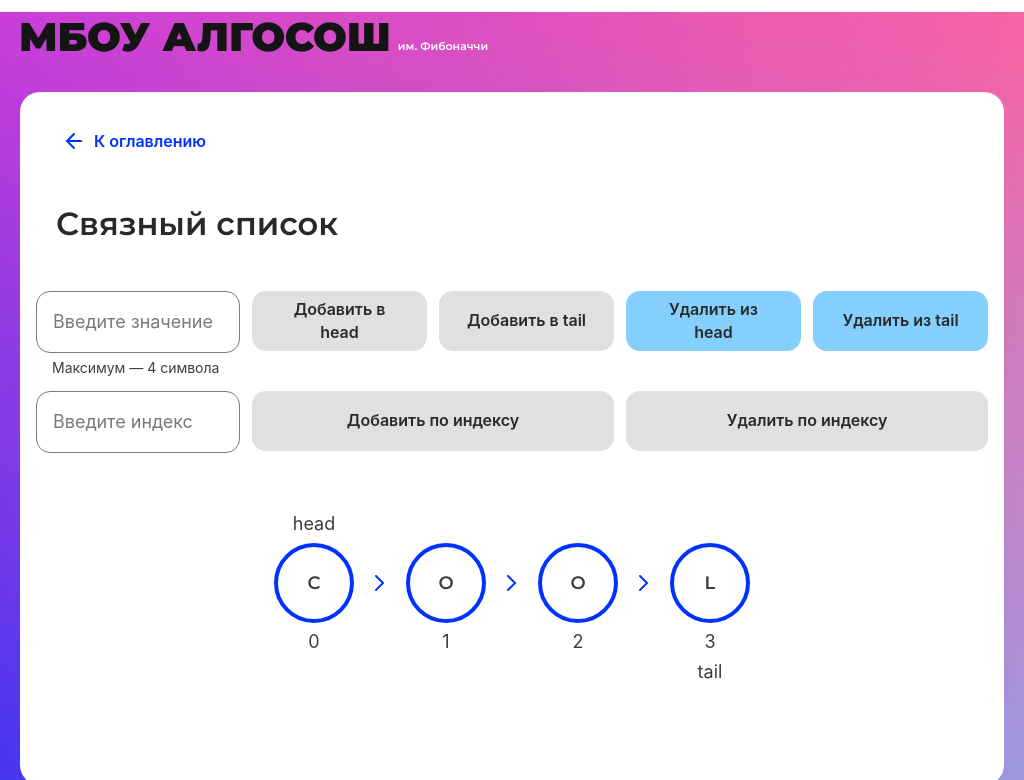
Test case: лист › удаляется по индексу
Type "2" into the number field with test id "input-index" at (138,422), box [36,391,240,453]
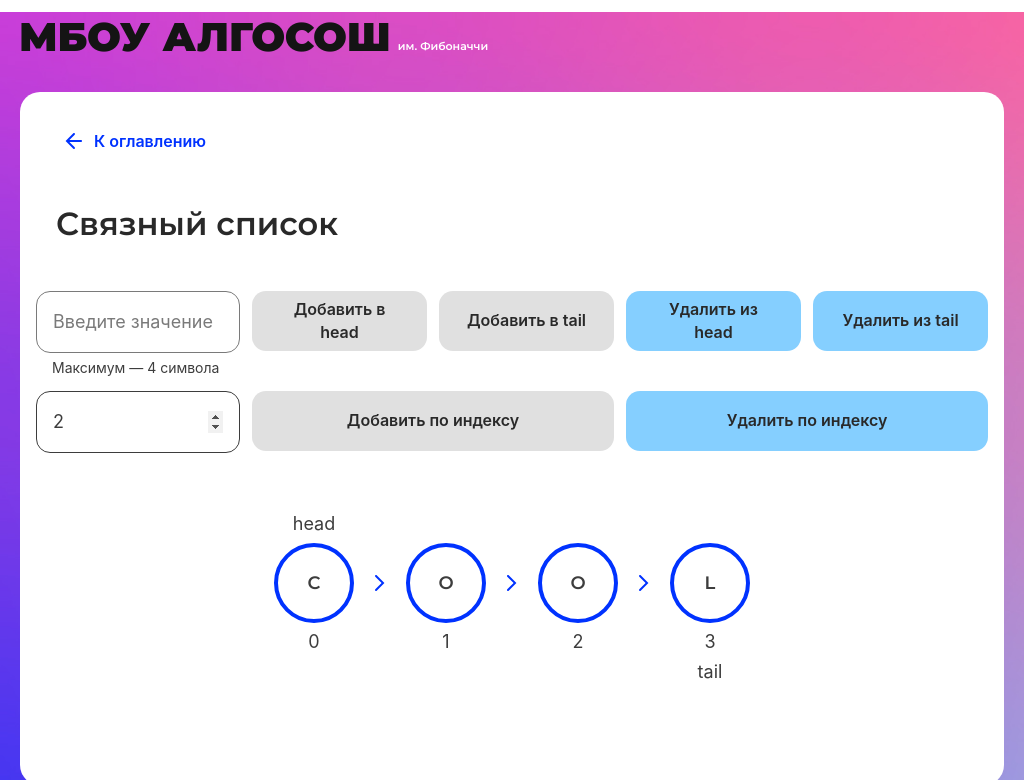
Click the button with test id "button-list-removeIndex" at (807,421), box [626,391,988,451]
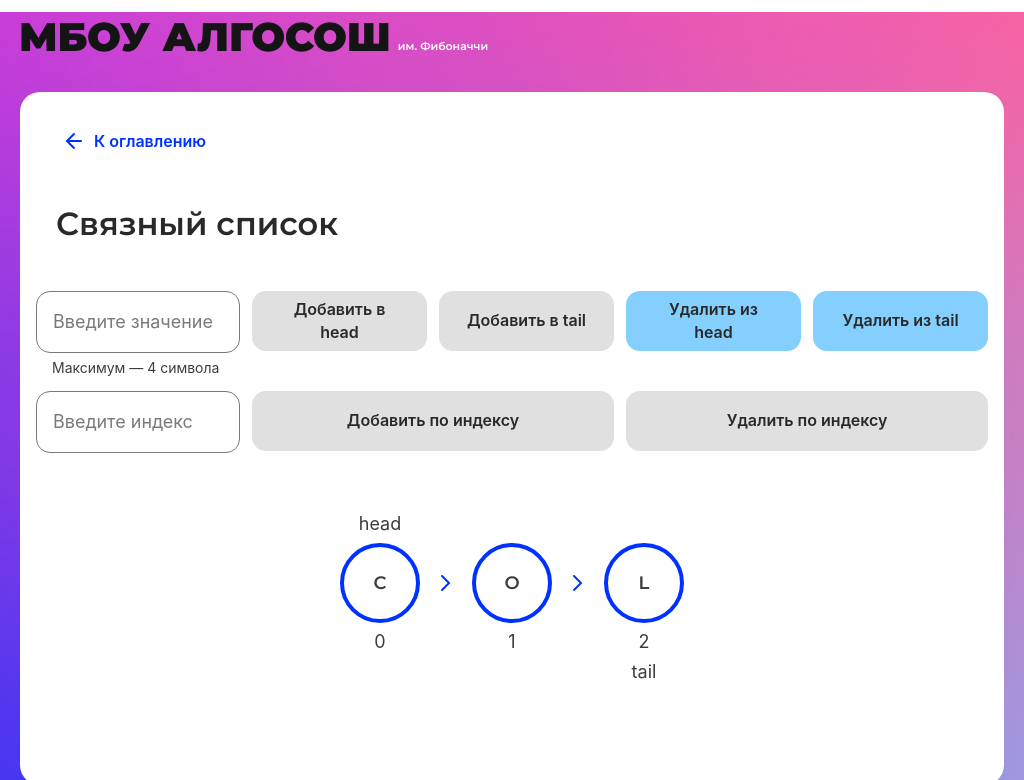
Expected: the number field with test id "input-index" is empty, [36,391,240,453]
Expected: the number of elements with test id "circle" is 3, [340,543,420,623]; [472,543,552,623]; [604,543,684,623]
